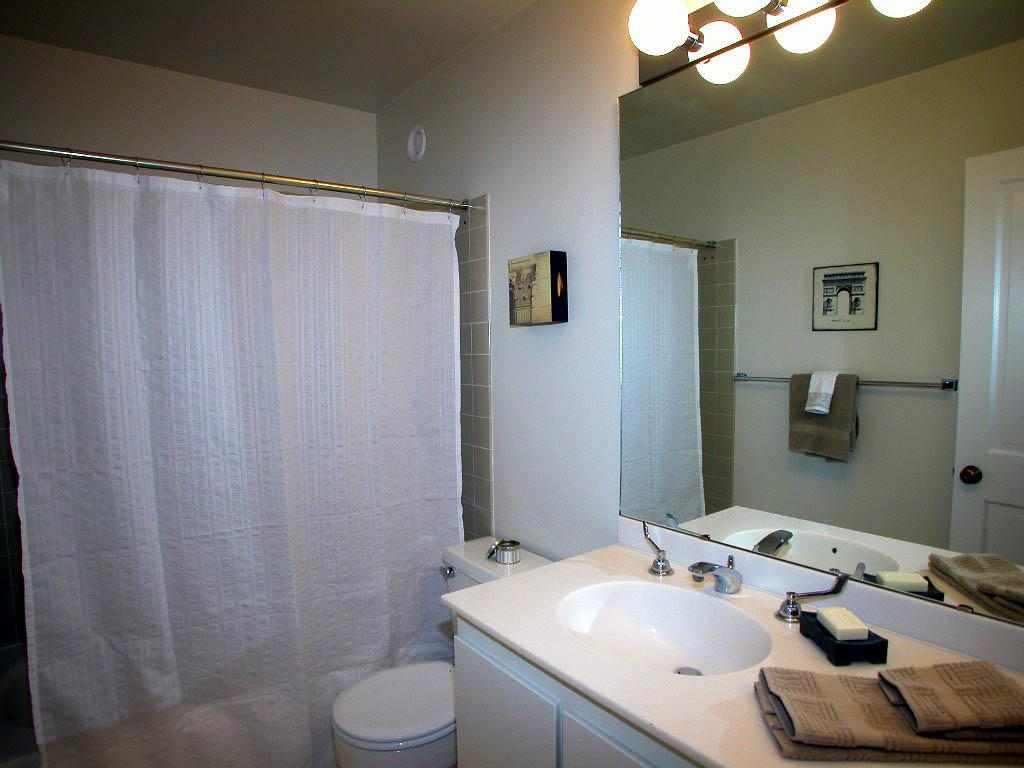tap: (688, 557, 737, 594)
